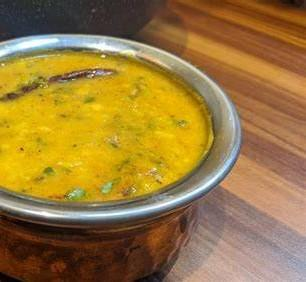Dal: (0, 53, 212, 202)
